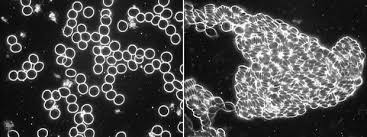Malaria: (80, 102, 94, 116), (113, 93, 127, 106), (20, 5, 33, 18), (39, 89, 53, 101), (127, 6, 140, 18), (117, 18, 128, 32), (35, 127, 50, 137), (54, 42, 66, 54), (108, 40, 120, 52), (6, 69, 17, 82), (143, 63, 155, 74), (7, 34, 19, 45), (10, 44, 22, 55), (72, 1, 83, 12), (83, 6, 94, 17), (77, 72, 86, 85), (145, 48, 155, 58)
